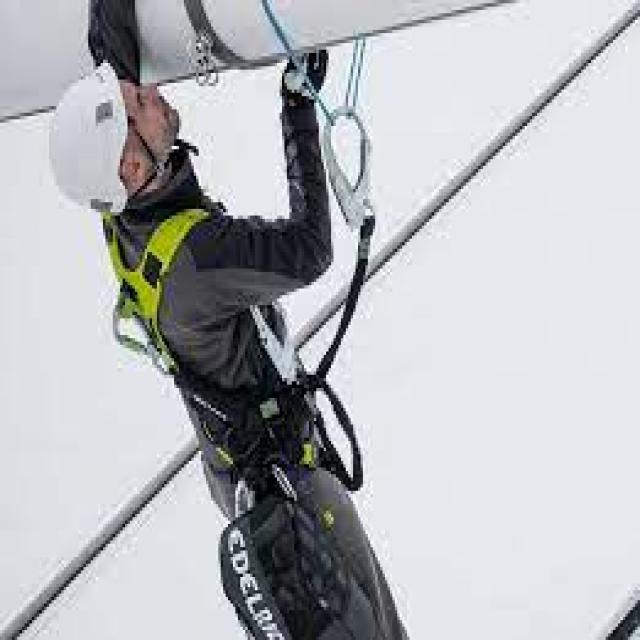harness: (146, 100, 390, 450)
